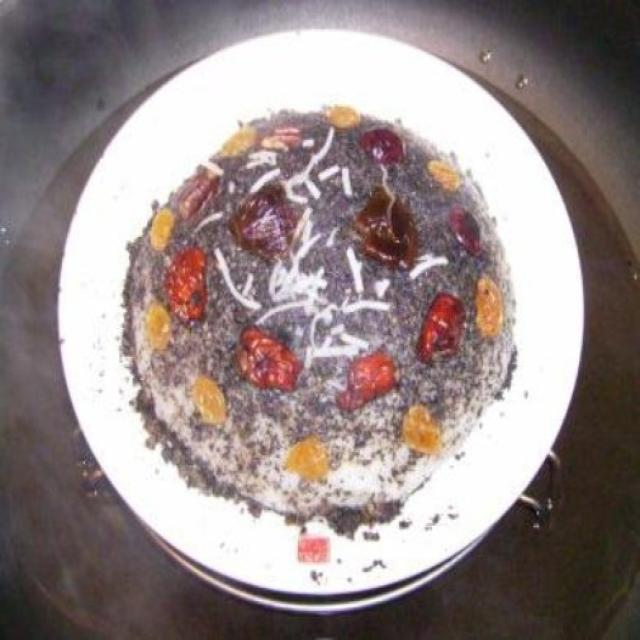米饭主食: (59, 23, 604, 610)
